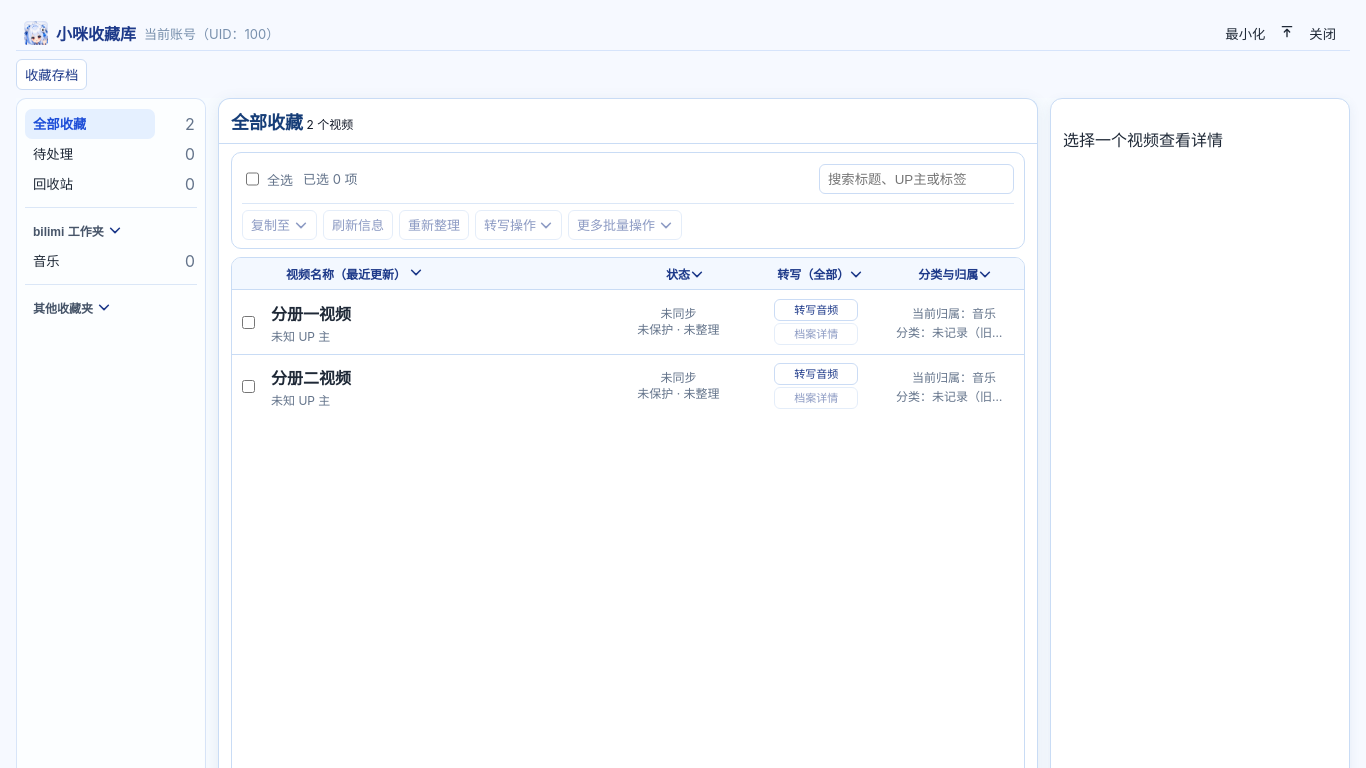
Scenario: FavoriteLibraryApp › shows a read-only all/shard selector only for multi-shard work folders
The image size is (1366, 768).
Click the button "音乐".
click(90, 261)  # box [25,246,155,276]
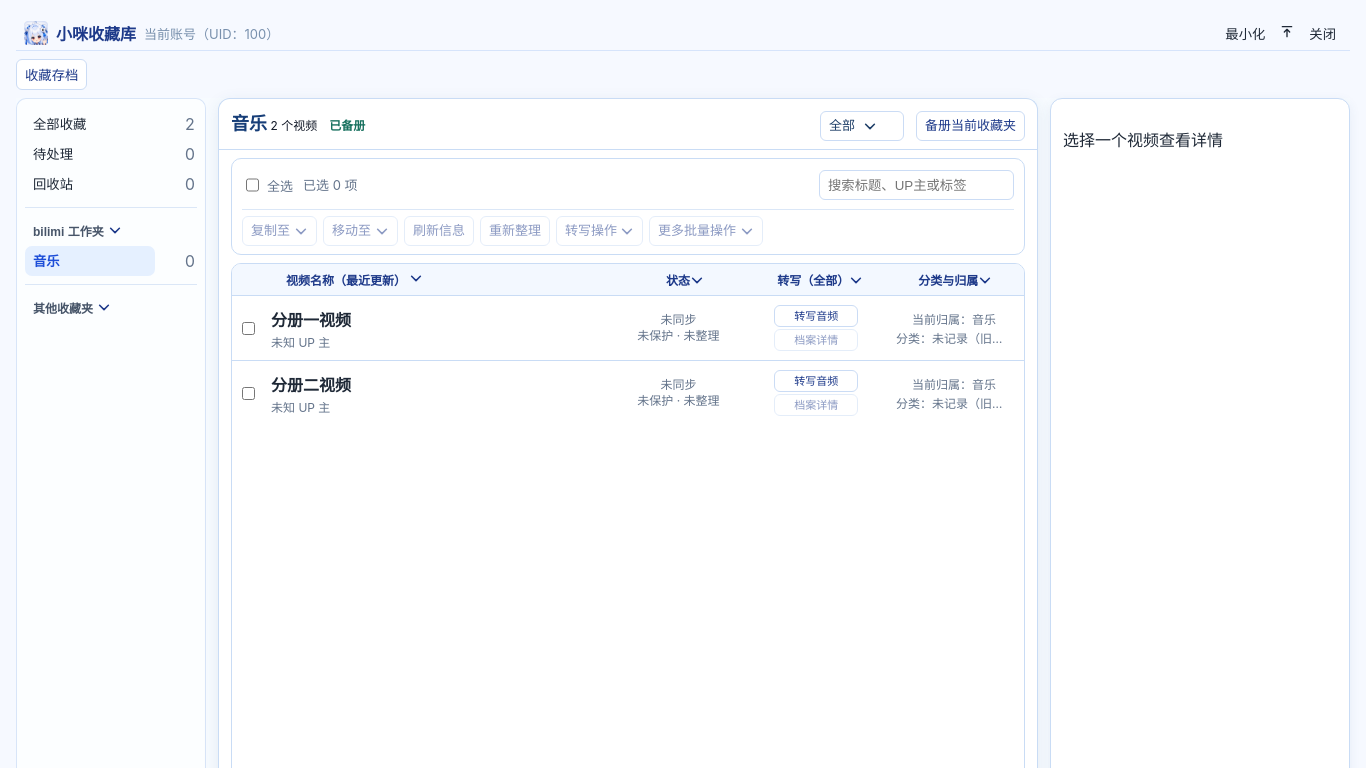
Click the button "全部".
click(862, 126)  # box [820,111,904,141]
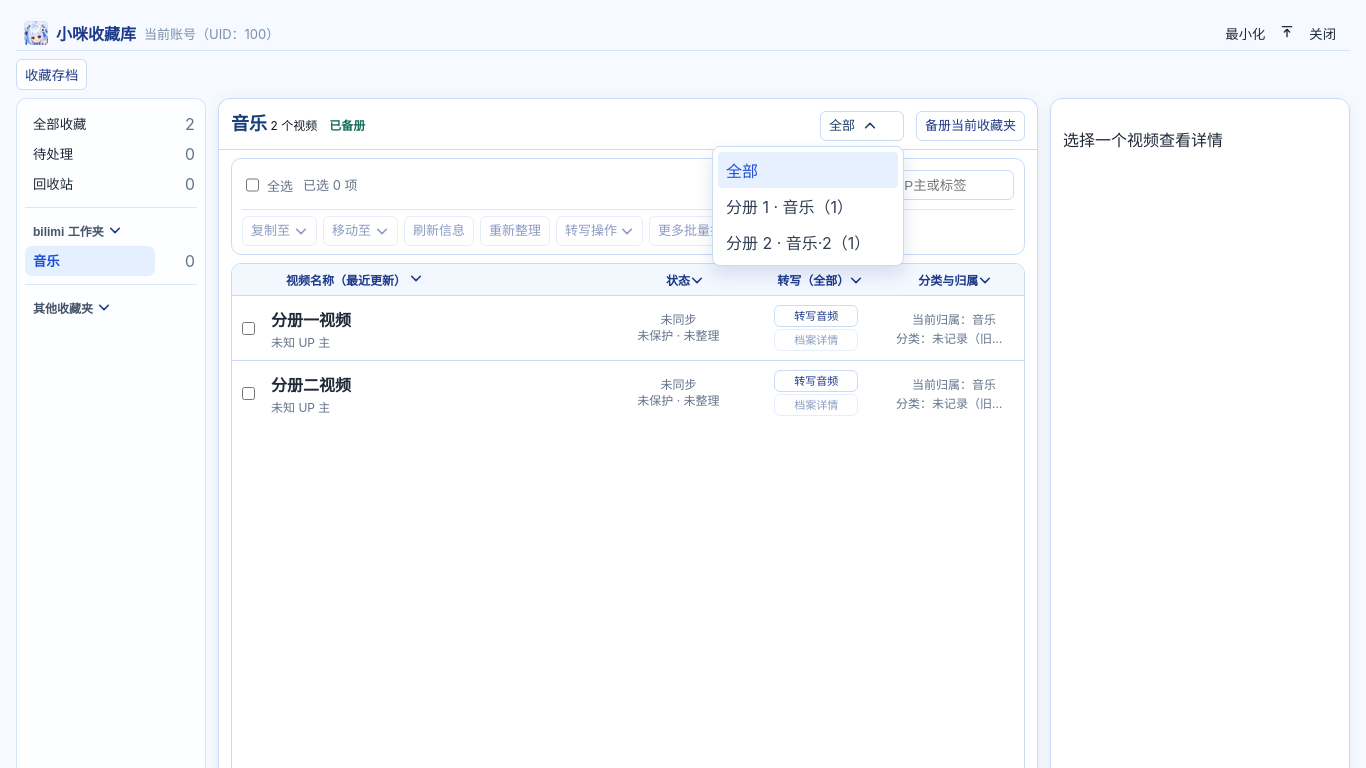
Check: the option "分册 1 · 音乐（1）" is shown, box [726,197,853,217]
Check: the option "分册 2 · 音乐·2（1）" is shown
Click the option "分册 2 · 音乐·2（1）".
click(798, 243)  # box [726,233,870,253]
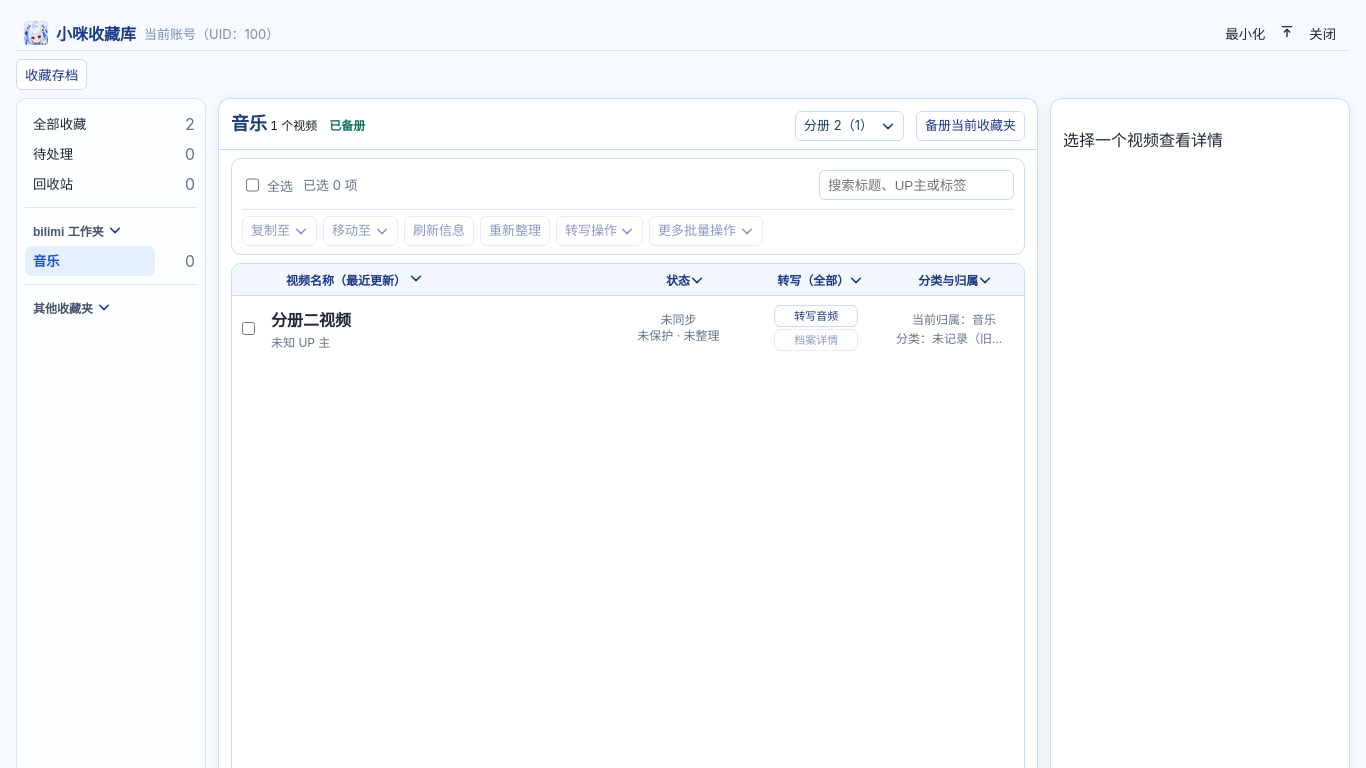
Check: the text "分册二视频" is shown, box [271,310,351,330]
Check: the button "分册 2（1）" is shown, box [795,111,904,141]
